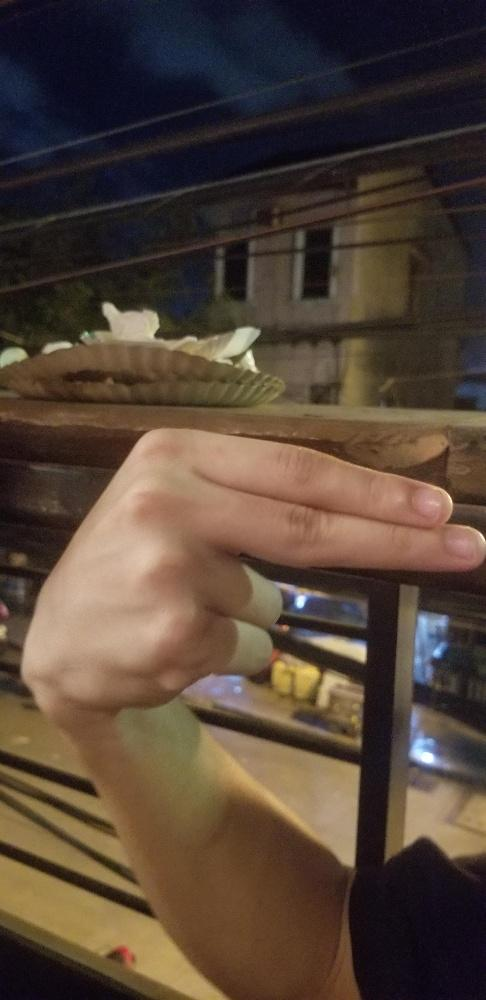h: (20, 420, 484, 713)
